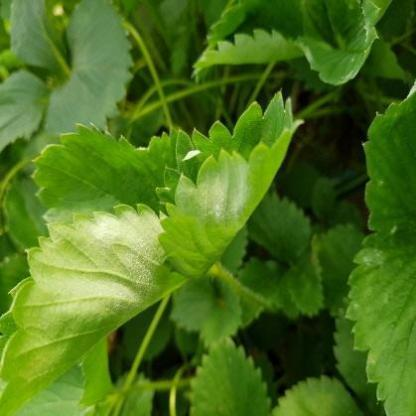Strawberry_Powdery_Mildew_Leaf: (0, 202, 190, 415), (154, 88, 306, 281), (344, 226, 416, 415), (292, 0, 381, 87)
